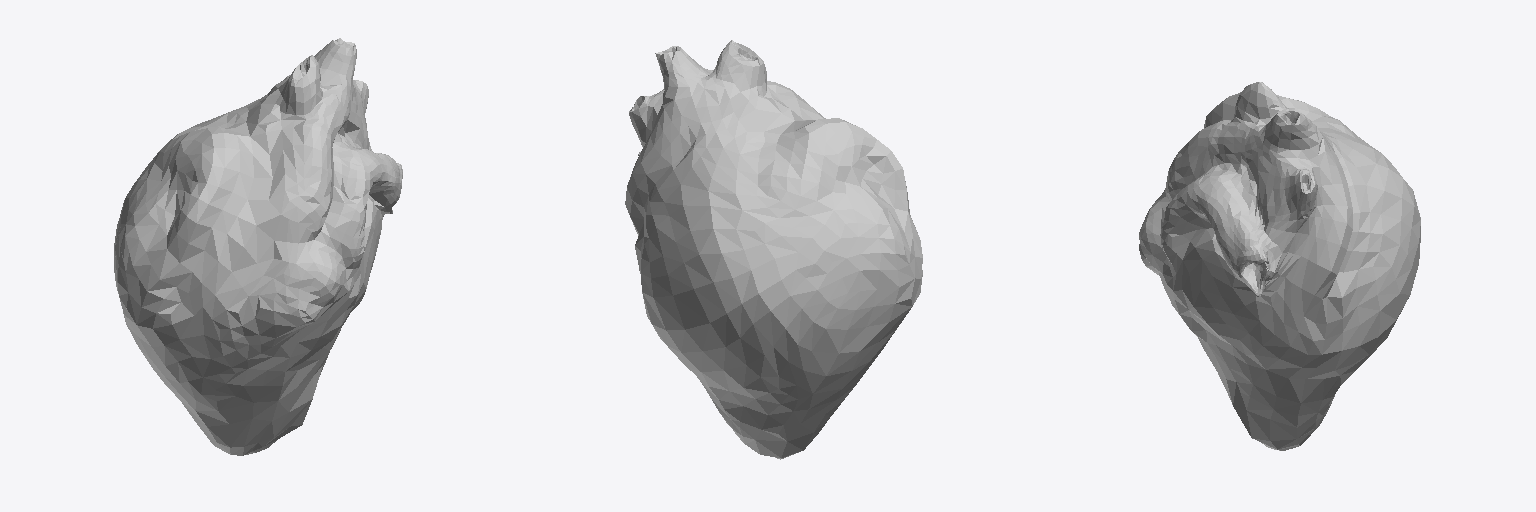
File: TexHeart.obj
3 views of the same model, side by side, from view 1: azimuth 30°, elevation 25°; view 2: azimuth 150°, elevation 25°; view 3: azimuth 270°, elevation 25° (orthographic).
Visible parts, largest first — view 1: Heart; view 2: Heart; view 3: Heart.
Part boxes in pixels (x1,y1,x2,y2): Heart: (114,38,402,455); Heart: (625,40,922,459); Heart: (1139,82,1420,450).
Size of the model in its own units: 0.1479 by 0.2028 by 0.1316.